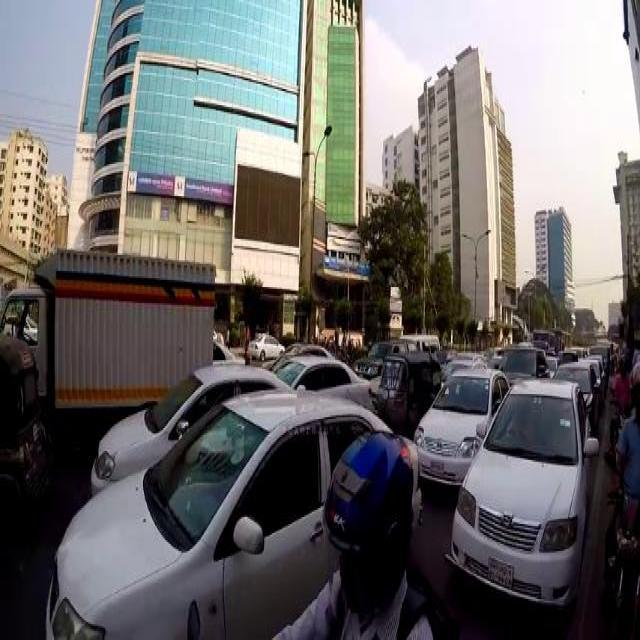10: (602, 449, 638, 585)
11: (0, 246, 216, 415)
15: (354, 338, 414, 373), (498, 343, 544, 379)
17: (0, 329, 48, 511), (374, 348, 440, 424)
5: (46, 387, 422, 636), (448, 374, 590, 602), (88, 359, 294, 488), (414, 363, 506, 484), (269, 352, 371, 409), (554, 358, 596, 417), (246, 334, 284, 356)
Truck: (552, 327, 572, 352)
